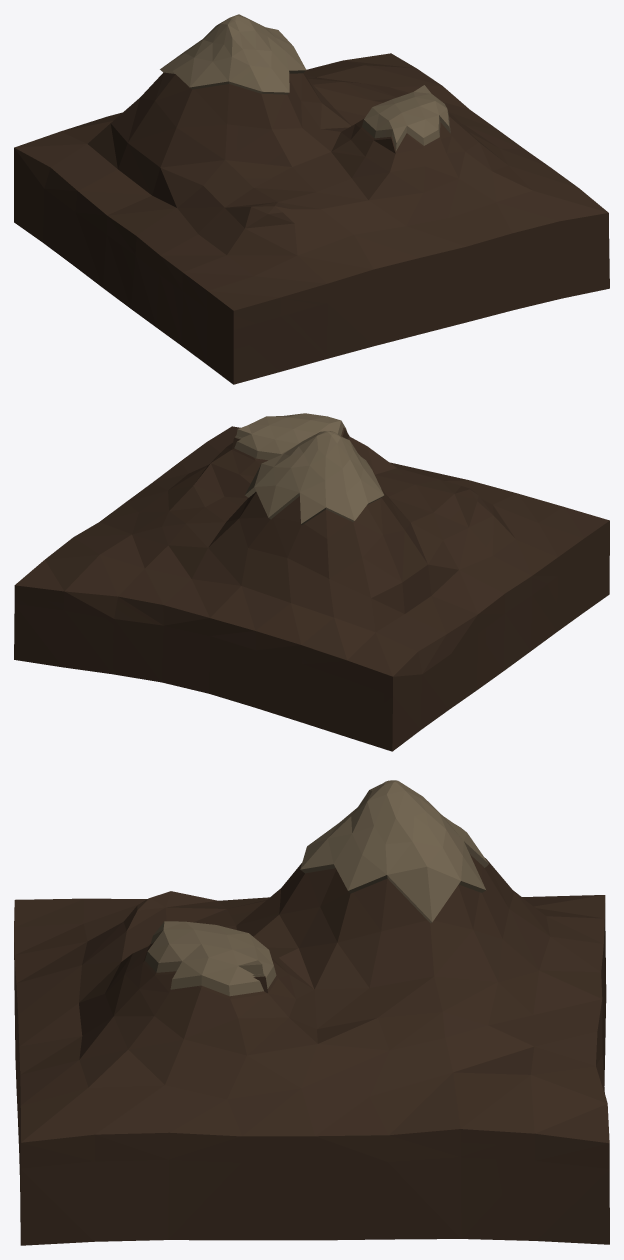
File: MO_Ground_5.fbx
3 views of the same model, one above another, from view 1: azimuth 30°, elevation 25°; view 2: azimuth 150°, elevation 25°; view 3: azimuth 270°, elevation 25° (orthographic). The views are drawn at different scales.
Parts seen in each view (by area): view 1: mountain; view 2: mountain; view 3: mountain.
Part boxes in pixels (left/top/right/bottom): mountain: left=14, top=14, right=609, bottom=384; mountain: left=14, top=413, right=609, bottom=751; mountain: left=14, top=780, right=609, bottom=1245.
Size of the model in its own units: 166 by 96.96 by 167.
